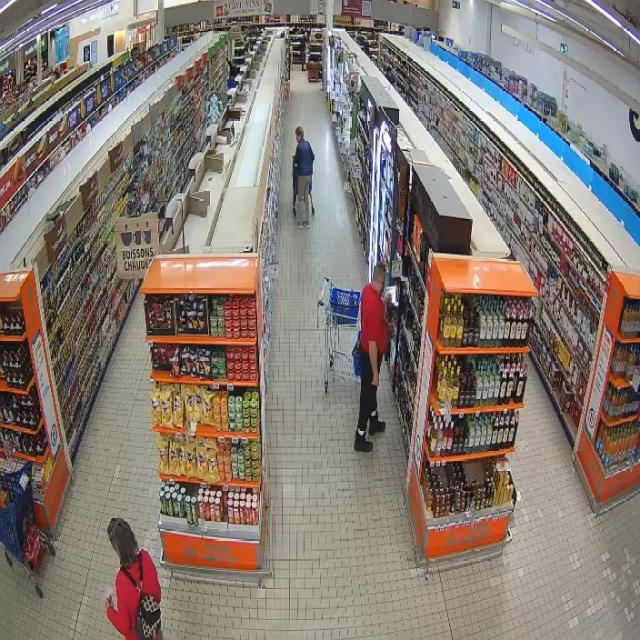article: (386, 303, 395, 325)
bags: (122, 555, 160, 639)
hands: (383, 294, 391, 307), (372, 372, 379, 386), (106, 595, 113, 608)
person: (107, 518, 160, 639), (355, 264, 389, 452), (296, 127, 314, 228)
